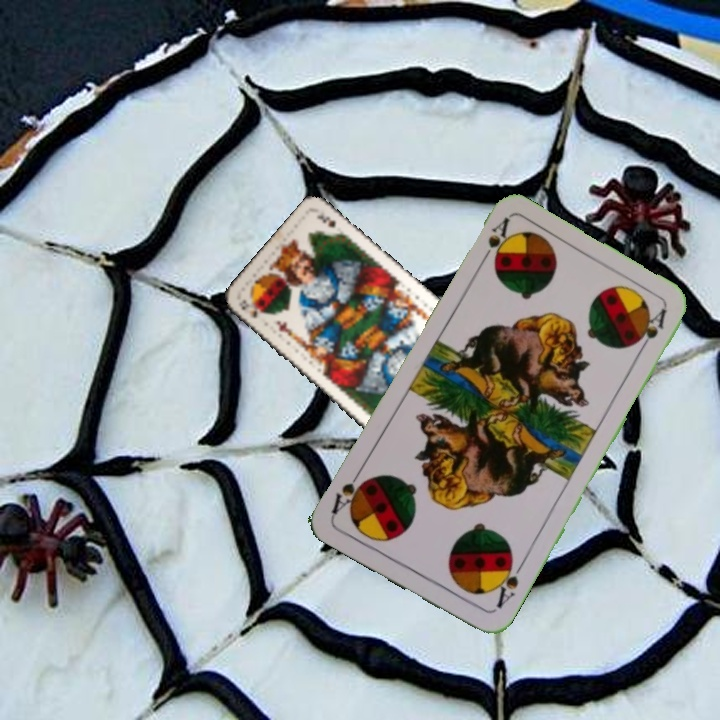SA: (488, 554, 526, 612), (475, 214, 512, 269)
SK: (235, 295, 265, 321)
